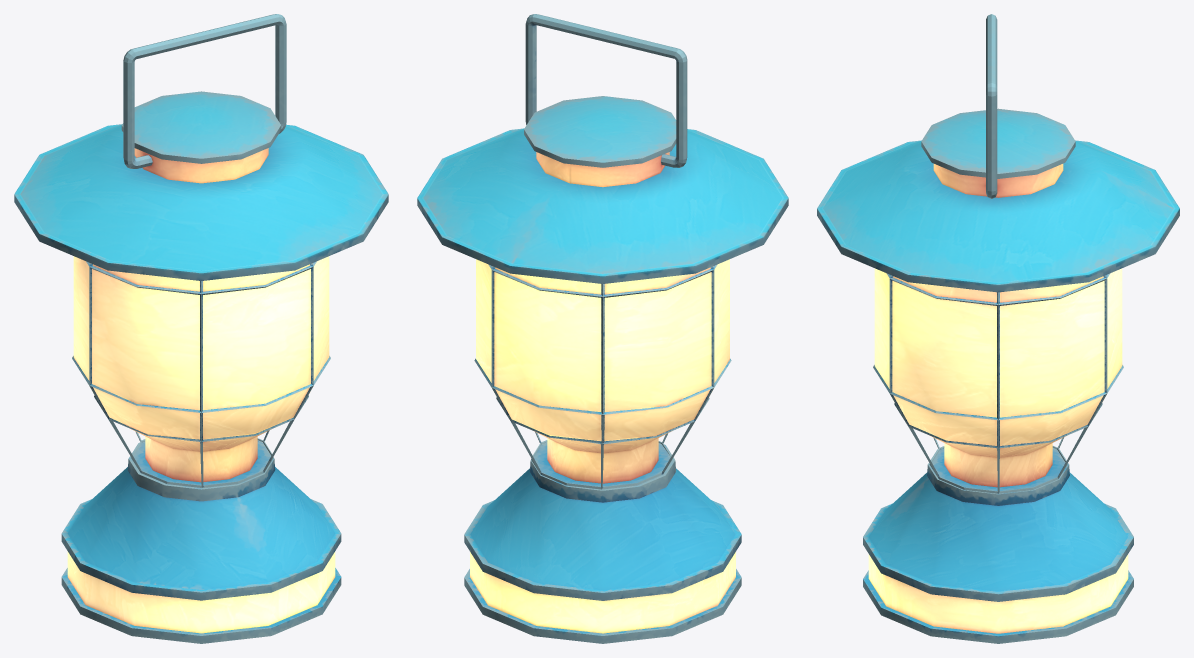
The model's file is Lamparina.fbx.
3 views of the same model, side by side, from view 1: azimuth 30°, elevation 25°; view 2: azimuth 150°, elevation 25°; view 3: azimuth 270°, elevation 25° (orthographic). The views are drawn at different scales.
Visible parts, largest first — view 1: Lamparina; view 2: Lamparina; view 3: Lamparina.
Part boxes in pixels (x1,y1,x2,y2): Lamparina: (14,14,388,643); Lamparina: (417,14,788,643); Lamparina: (817,14,1179,643).
Size of the model in its own units: 0.4538 by 0.7431 by 0.4538.
